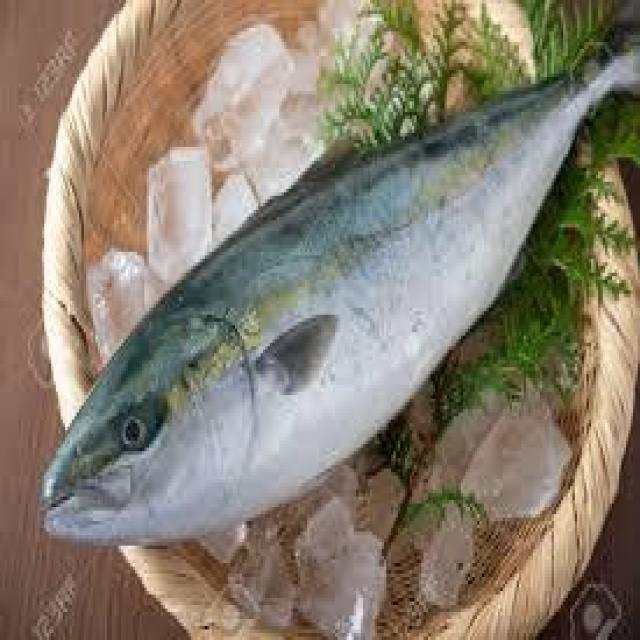Kingfish: (32, 0, 640, 544)
